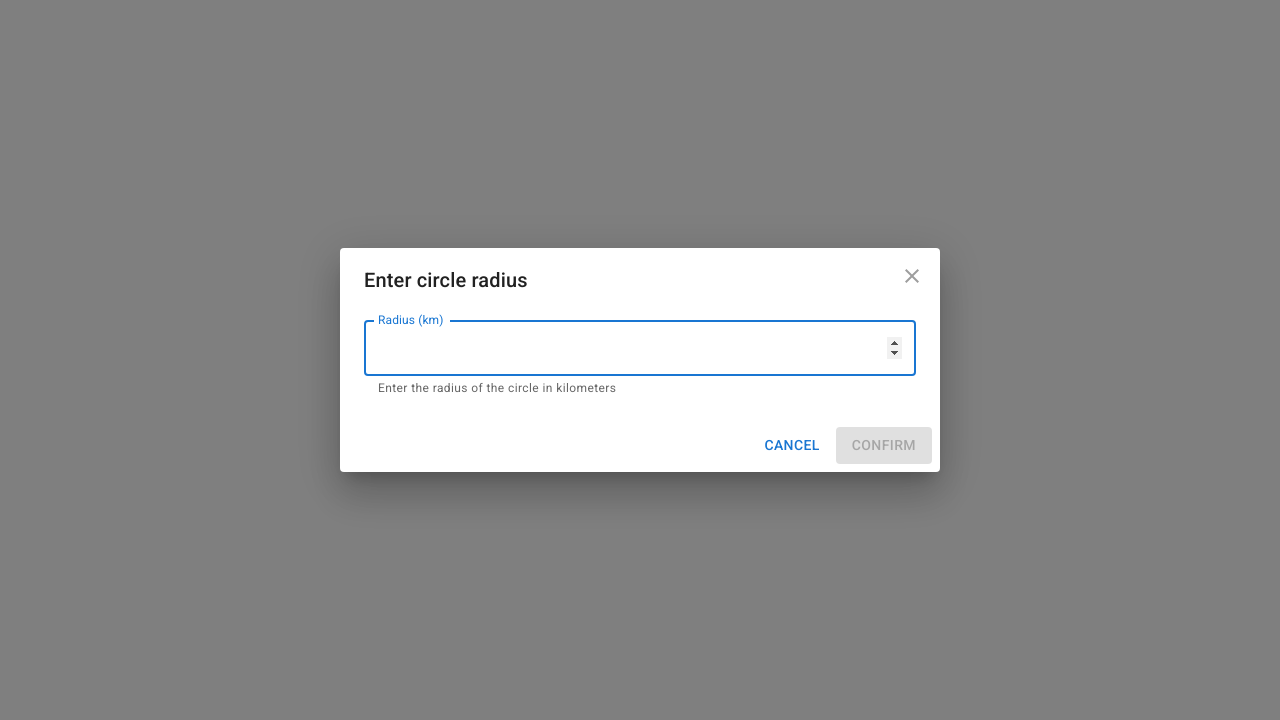
RadiusDialog › input validation › enables Confirm button when valid number is entered
Step 1. Type "5" into the number field labelled "Radius (km)" → (640, 348), box [364, 320, 916, 376]
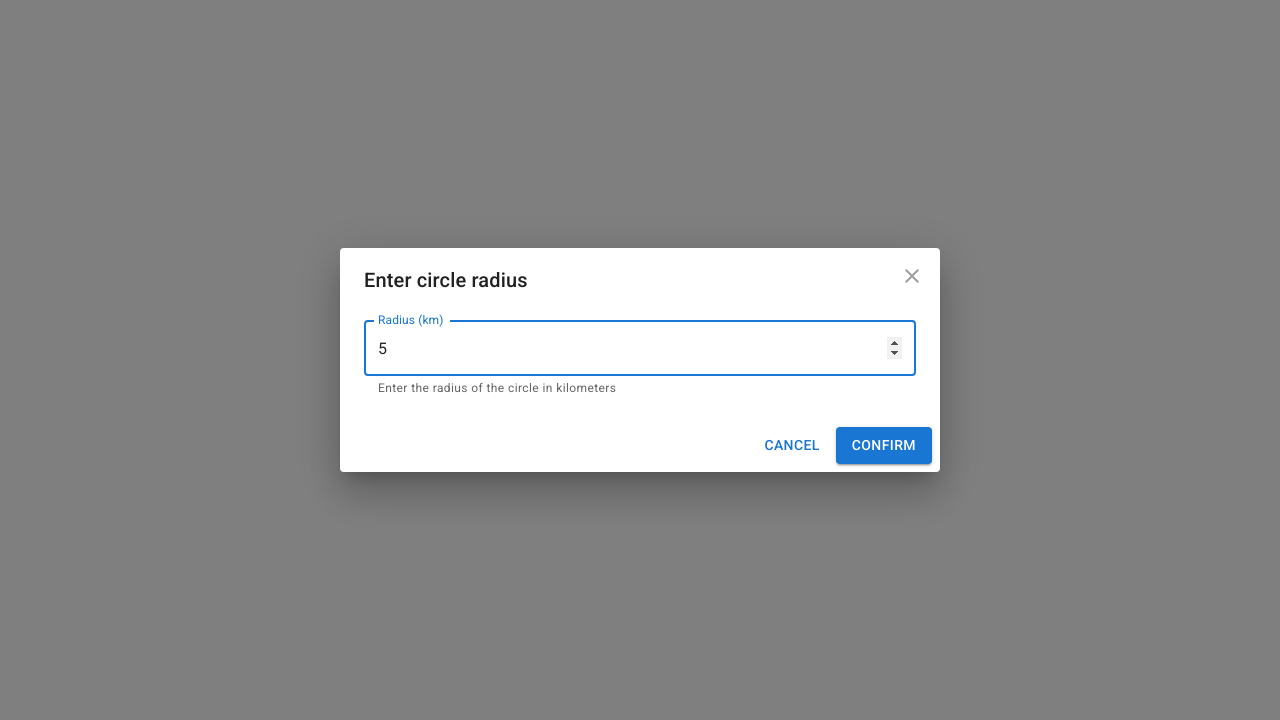
Expected: the button "Confirm" is enabled, [836, 427, 932, 464]
